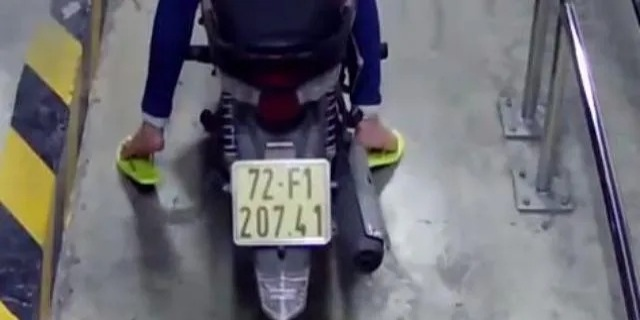bien_so: (232, 159, 330, 247)
